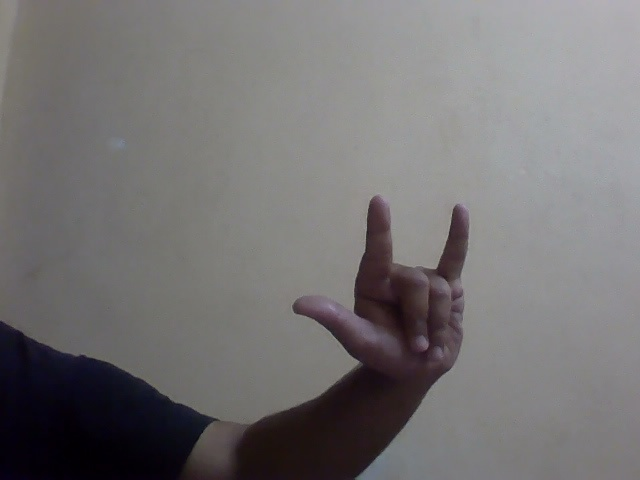I love you: (282, 187, 499, 385)
